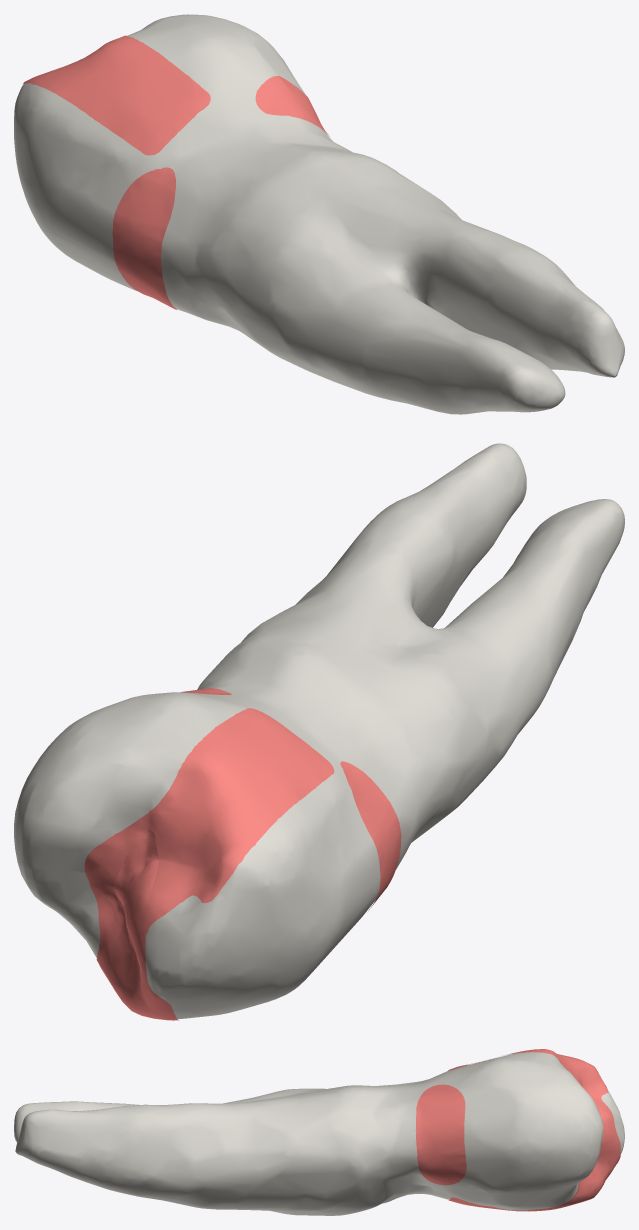
Rendered from tooth_14_FMA55689.glb.
The picture shows the model from 3 angles, top to bottom: view 1: azimuth 30°, elevation 25°; view 2: azimuth 150°, elevation 25°; view 3: azimuth 270°, elevation 25°; orthographic projection. The views are drawn at different scales.
Visible parts, largest first — view 1: tooth_14, class2_distal, class5_facial, class5_lingual; view 2: tooth_14, class2_distal, class2_mesial, class5_facial, class2_mesial_distal, class1; view 3: tooth_14, class5_lingual, class2_mesial, class2_distal.
Part boxes in pixels (x1,y1,x2,y2): tooth_14: (14, 14, 624, 414); class2_distal: (23, 35, 210, 155); class5_facial: (112, 167, 176, 309); class5_lingual: (255, 75, 329, 136); tooth_14: (14, 443, 624, 1018); class2_distal: (88, 708, 334, 934); class2_mesial: (87, 829, 179, 1020); class5_facial: (340, 761, 401, 910); class2_mesial_distal: (84, 819, 163, 953); class1: (114, 829, 155, 925); tooth_14: (14, 1052, 624, 1215); class5_lingual: (415, 1084, 466, 1185); class2_mesial: (448, 1112, 620, 1211); class2_distal: (448, 1049, 614, 1146).
Bounding box in the file's own units: 9.05 × 7.62 × 26.86.
